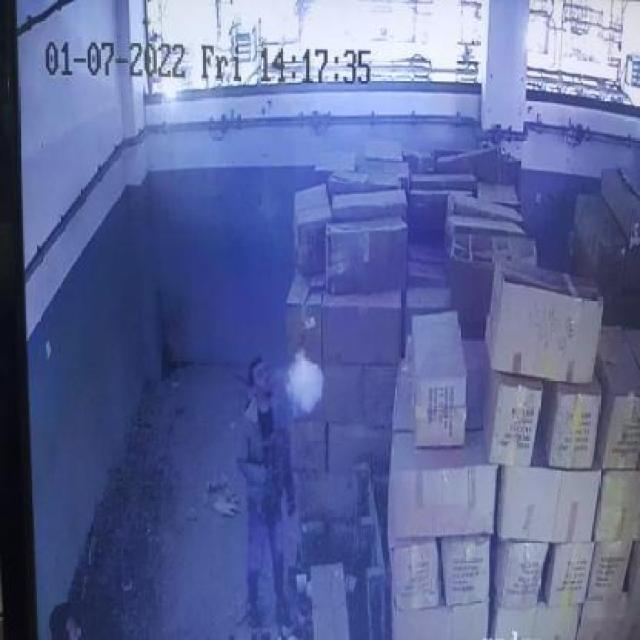fire: (282, 343, 326, 425)
